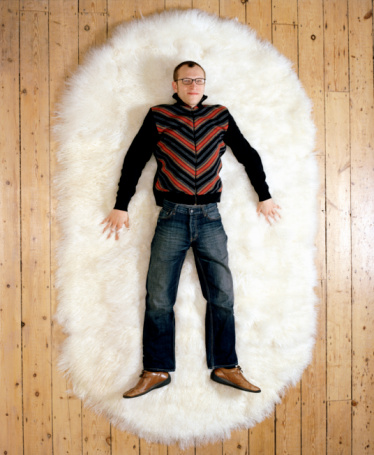deitado: (114, 53, 278, 360)
